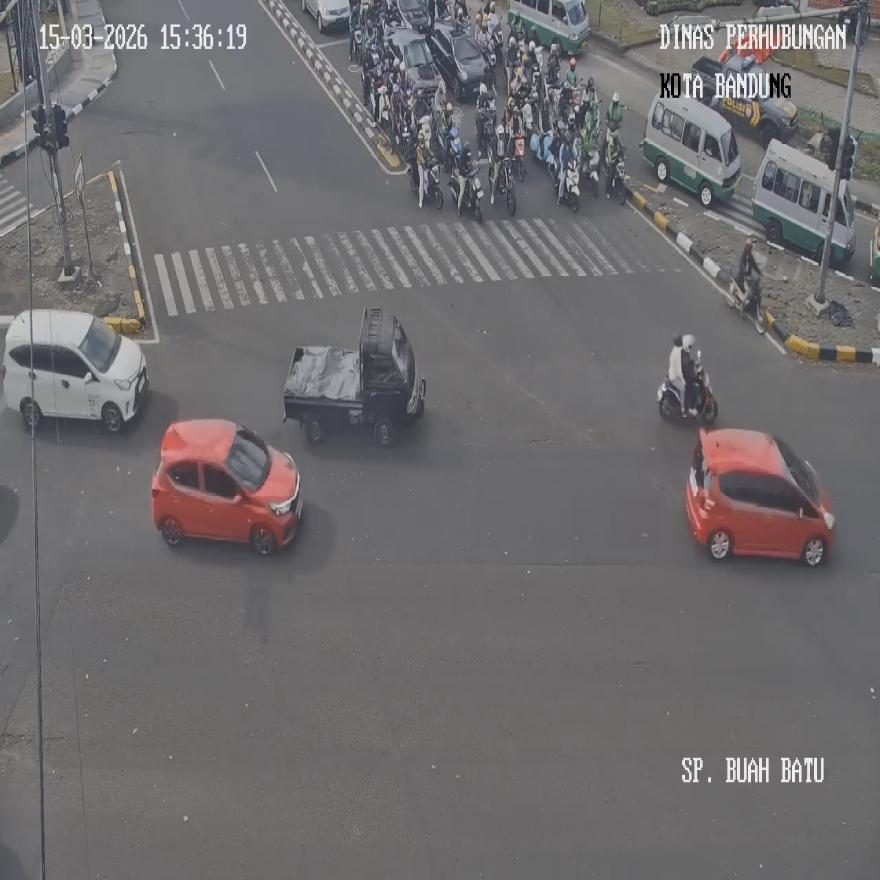Motor: (150, 418, 302, 554), (684, 429, 834, 566), (282, 307, 425, 446), (2, 309, 150, 433), (751, 136, 856, 266), (639, 90, 741, 206), (690, 54, 798, 149), (426, 20, 487, 102), (509, 0, 590, 57)
Truk: (657, 356, 717, 424), (729, 265, 765, 334), (408, 154, 442, 208), (451, 165, 483, 222), (489, 154, 515, 214), (605, 146, 628, 206), (578, 145, 600, 198), (557, 160, 579, 210), (542, 128, 559, 184), (481, 33, 498, 88), (509, 125, 525, 182), (444, 124, 461, 174)
